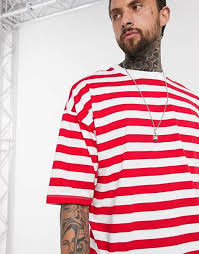striped: (46, 64, 196, 251)
